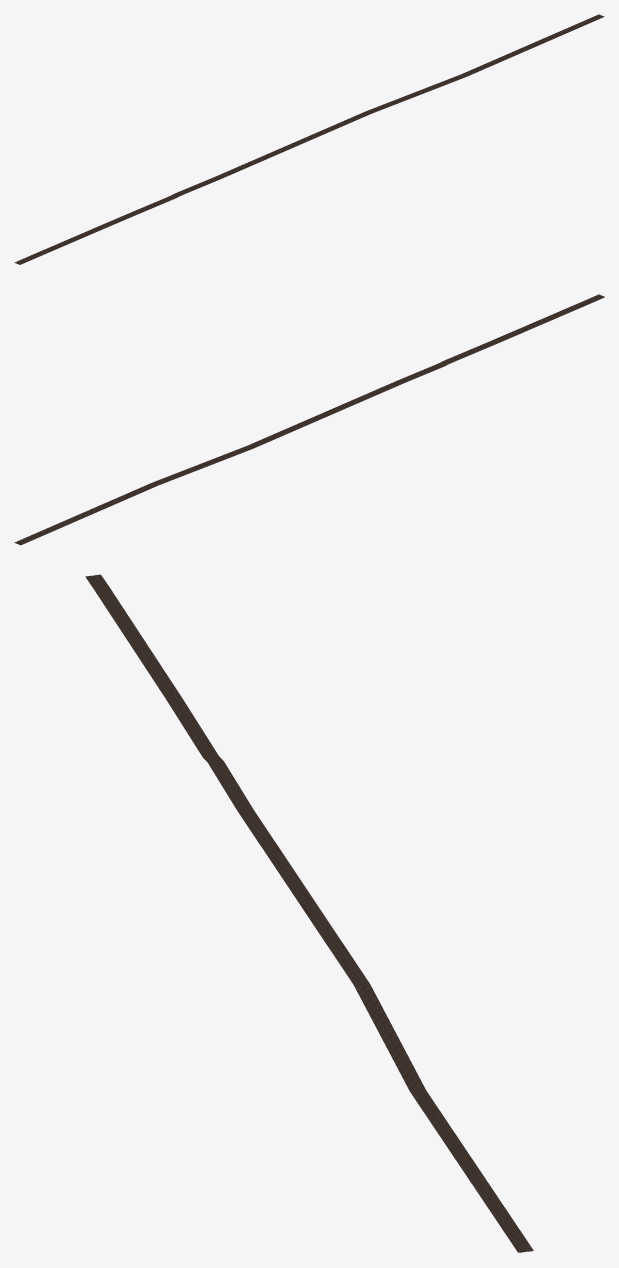
File: kobe_0035.glb
3 renders of one model, top to bottom at view 1: azimuth 30°, elevation 25°; view 2: azimuth 210°, elevation 25°; view 3: azimuth 270°, elevation 25°, orthographic. The views are drawn at different scales.
Parts seen in each view (by area): view 1: ballast_top, oxidised_rail_profiles; view 2: ballast_top, oxidised_rail_profiles, ballast_left; view 3: ballast_top, oxidised_rail_profiles.
Part boxes in pixels (<box>): ballast_top: <box>14,14,604,264</box>; oxidised_rail_profiles: <box>15,15,603,263</box>; ballast_top: <box>14,294,604,544</box>; oxidised_rail_profiles: <box>15,295,603,544</box>; ballast_left: <box>20,297,604,545</box>; ballast_top: <box>85,574,533,1252</box>; oxidised_rail_profiles: <box>87,574,531,1251</box>.
Bounding box in the file's own units: 731 × 0.819 × 205.
Materials: 4 (3 with a texture image).
